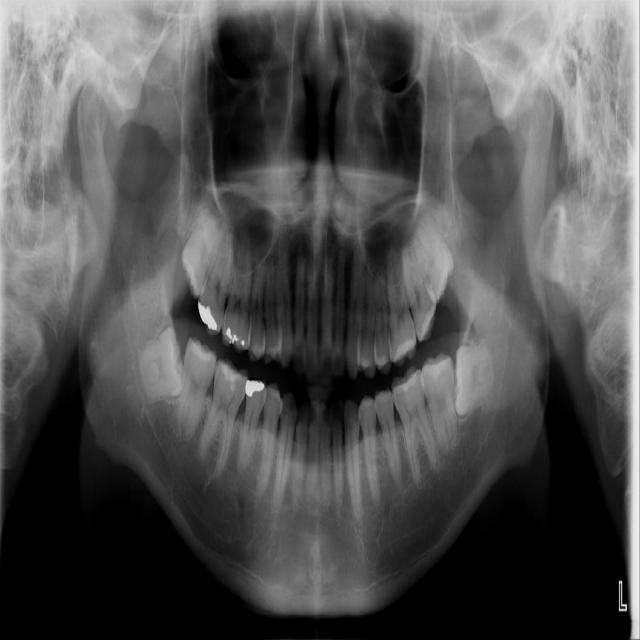Filling: (456, 331, 495, 419), (218, 362, 247, 393), (417, 301, 435, 343), (392, 369, 423, 393), (199, 300, 221, 333), (389, 335, 414, 363), (226, 326, 248, 347), (246, 379, 267, 398), (376, 351, 387, 368), (359, 357, 369, 370)
impacted tooth: (137, 327, 182, 398)
